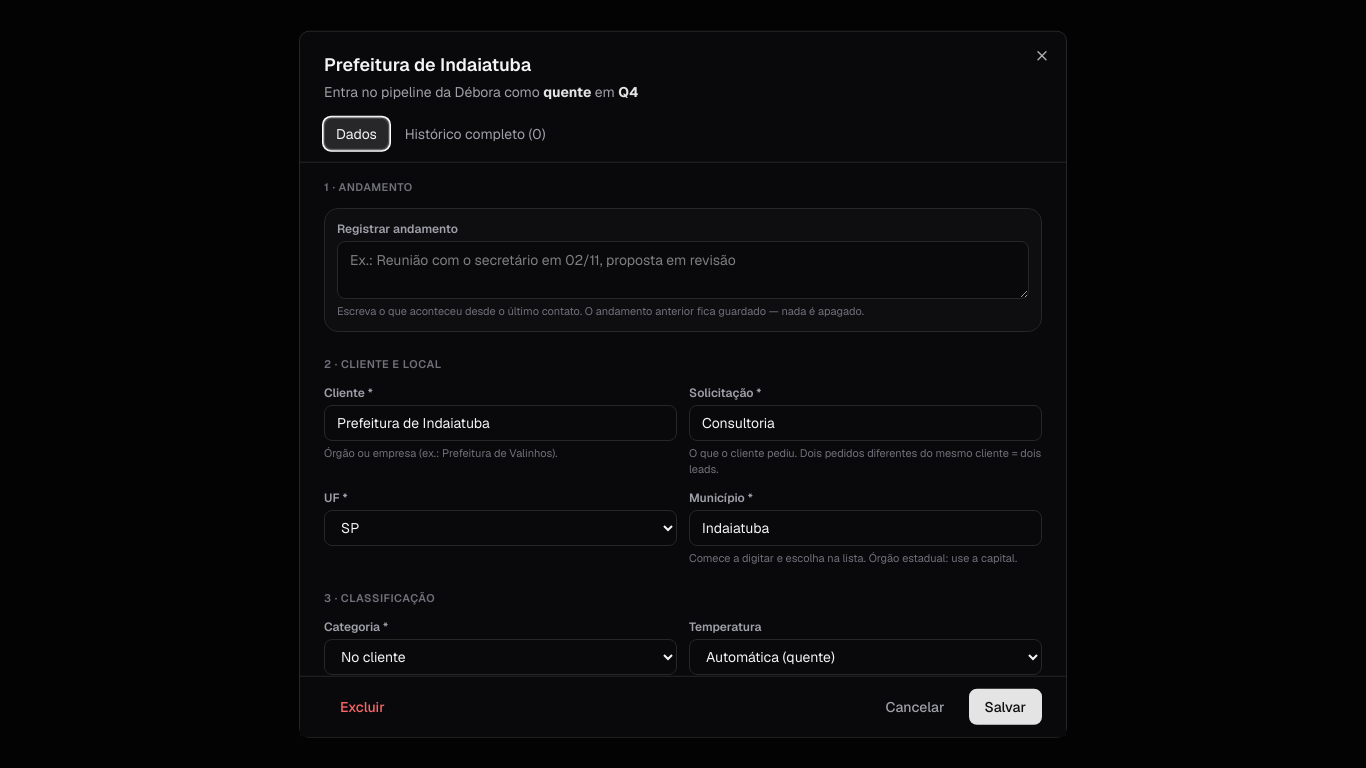
Test case: LeadPainel › motivo da perda só aparece em Perda e os erros do servidor aparecem no campo
This screenshot has width=1366, height=768.
expect the field labelled "Motivo da perda" is not shown: met
Select "Perda" in the dropdown labelled "Categoria": (500, 656) [324, 638, 677, 674]
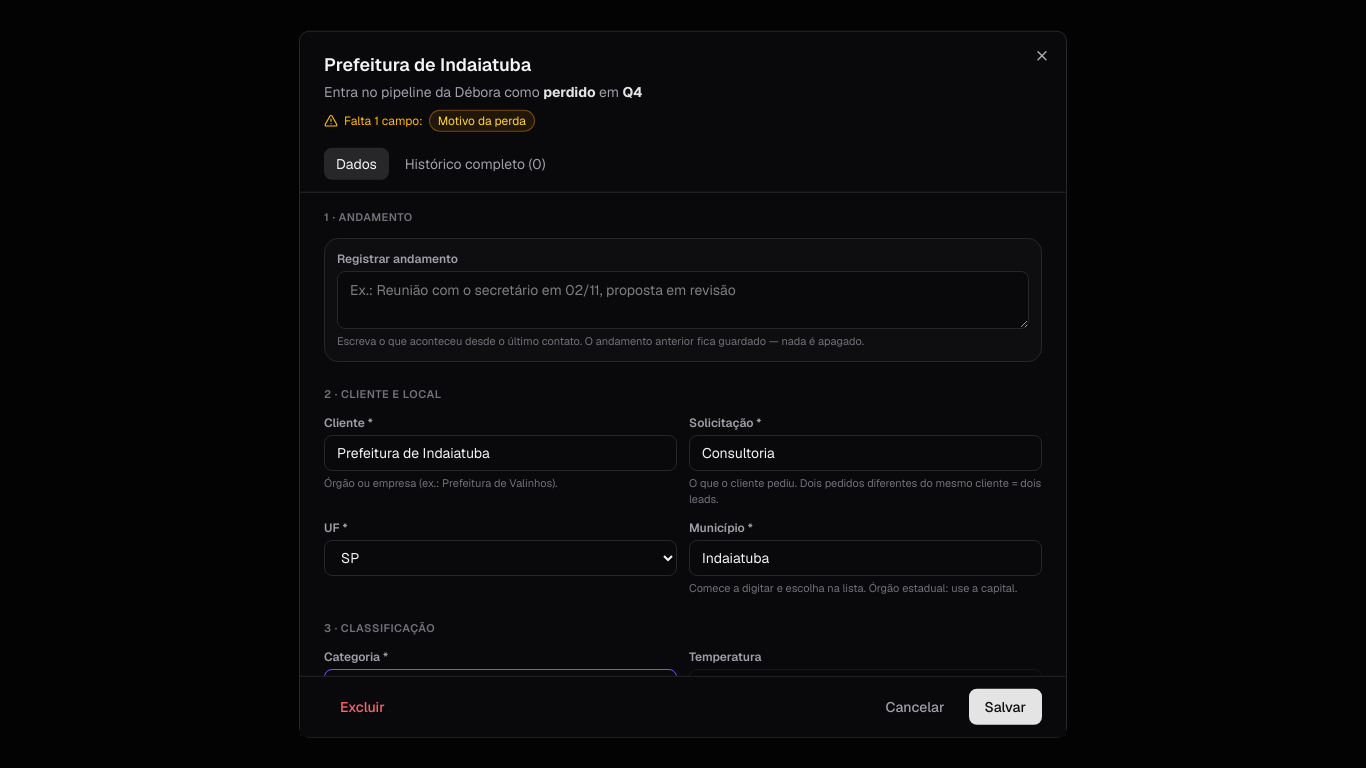
Click the button "Salvar": (1005, 706) [968, 688, 1042, 724]
(page scrolled)
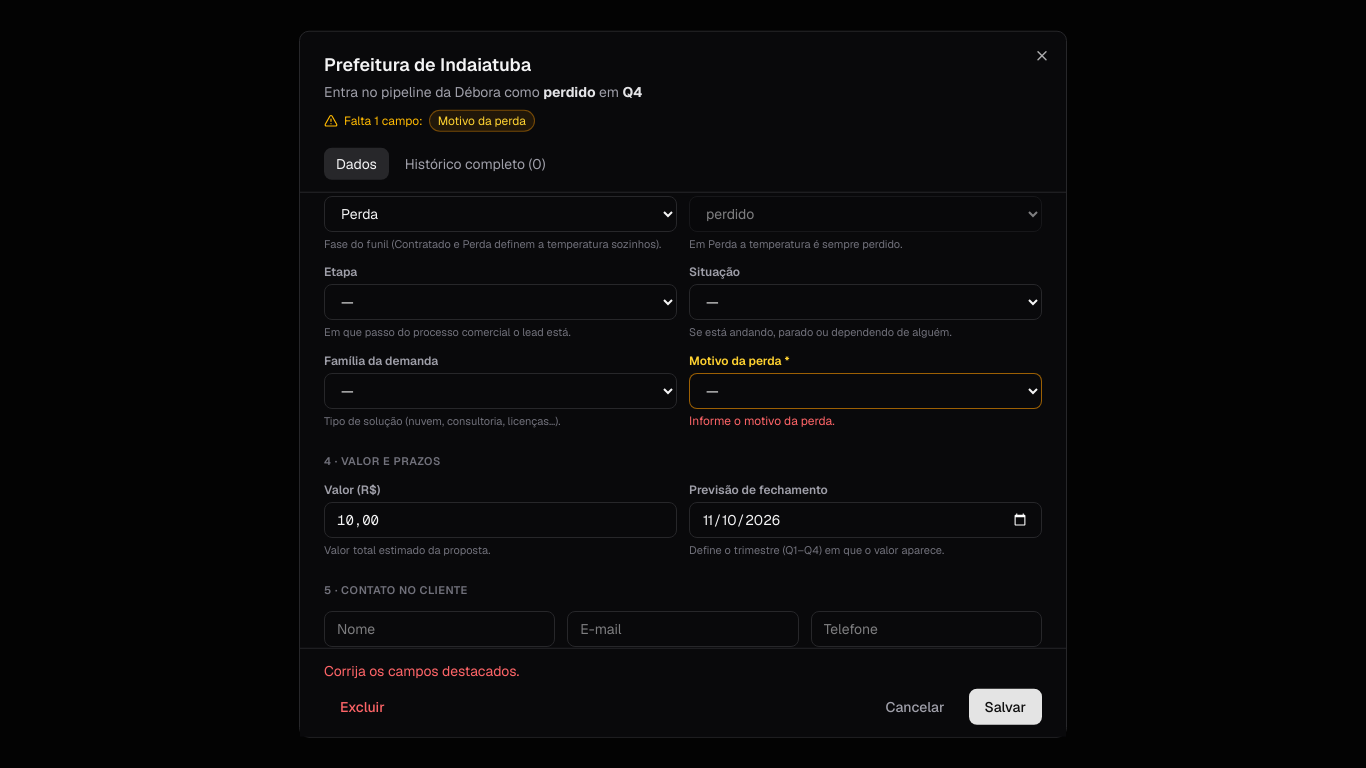
expect the text "Informe o motivo da perda." is shown: met, box [689, 412, 835, 428]
